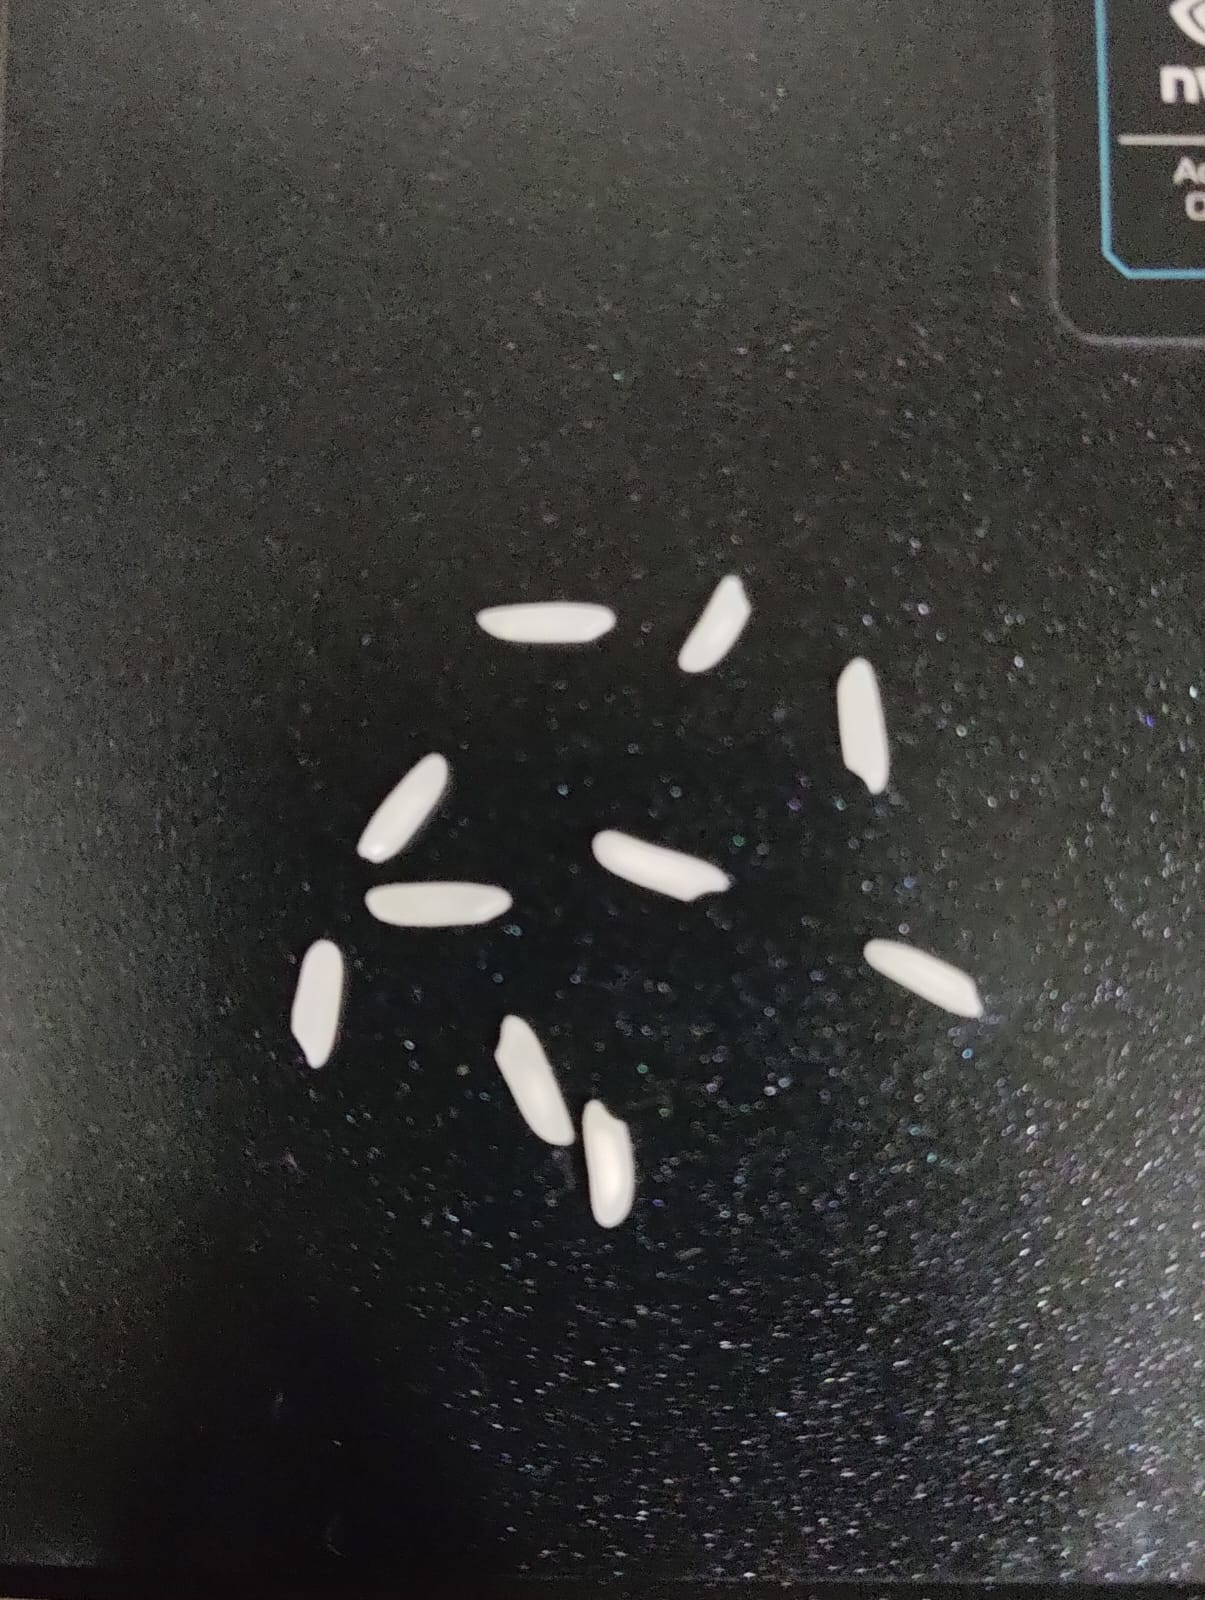complete_grain: (859, 924, 991, 1036), (583, 819, 733, 915), (485, 1003, 576, 1159), (351, 736, 456, 869), (829, 648, 904, 810), (282, 924, 354, 1078), (674, 569, 757, 683), (580, 1090, 642, 1243), (470, 595, 624, 654), (359, 878, 526, 933)
